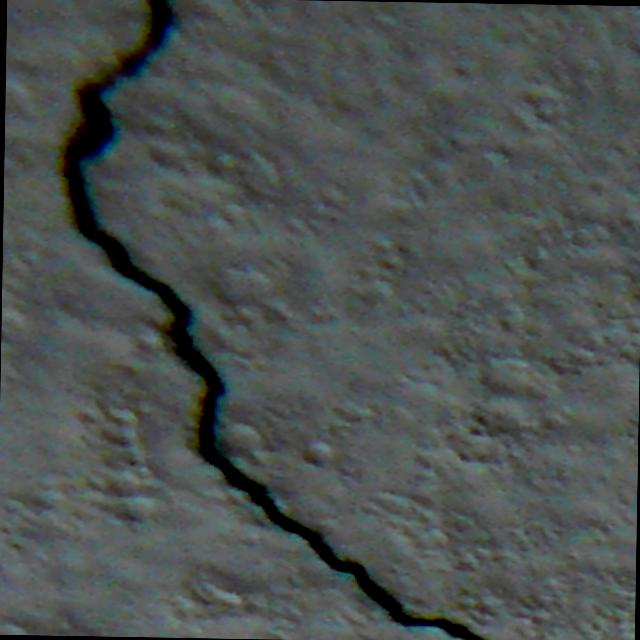crack: (44, 0, 499, 640)
